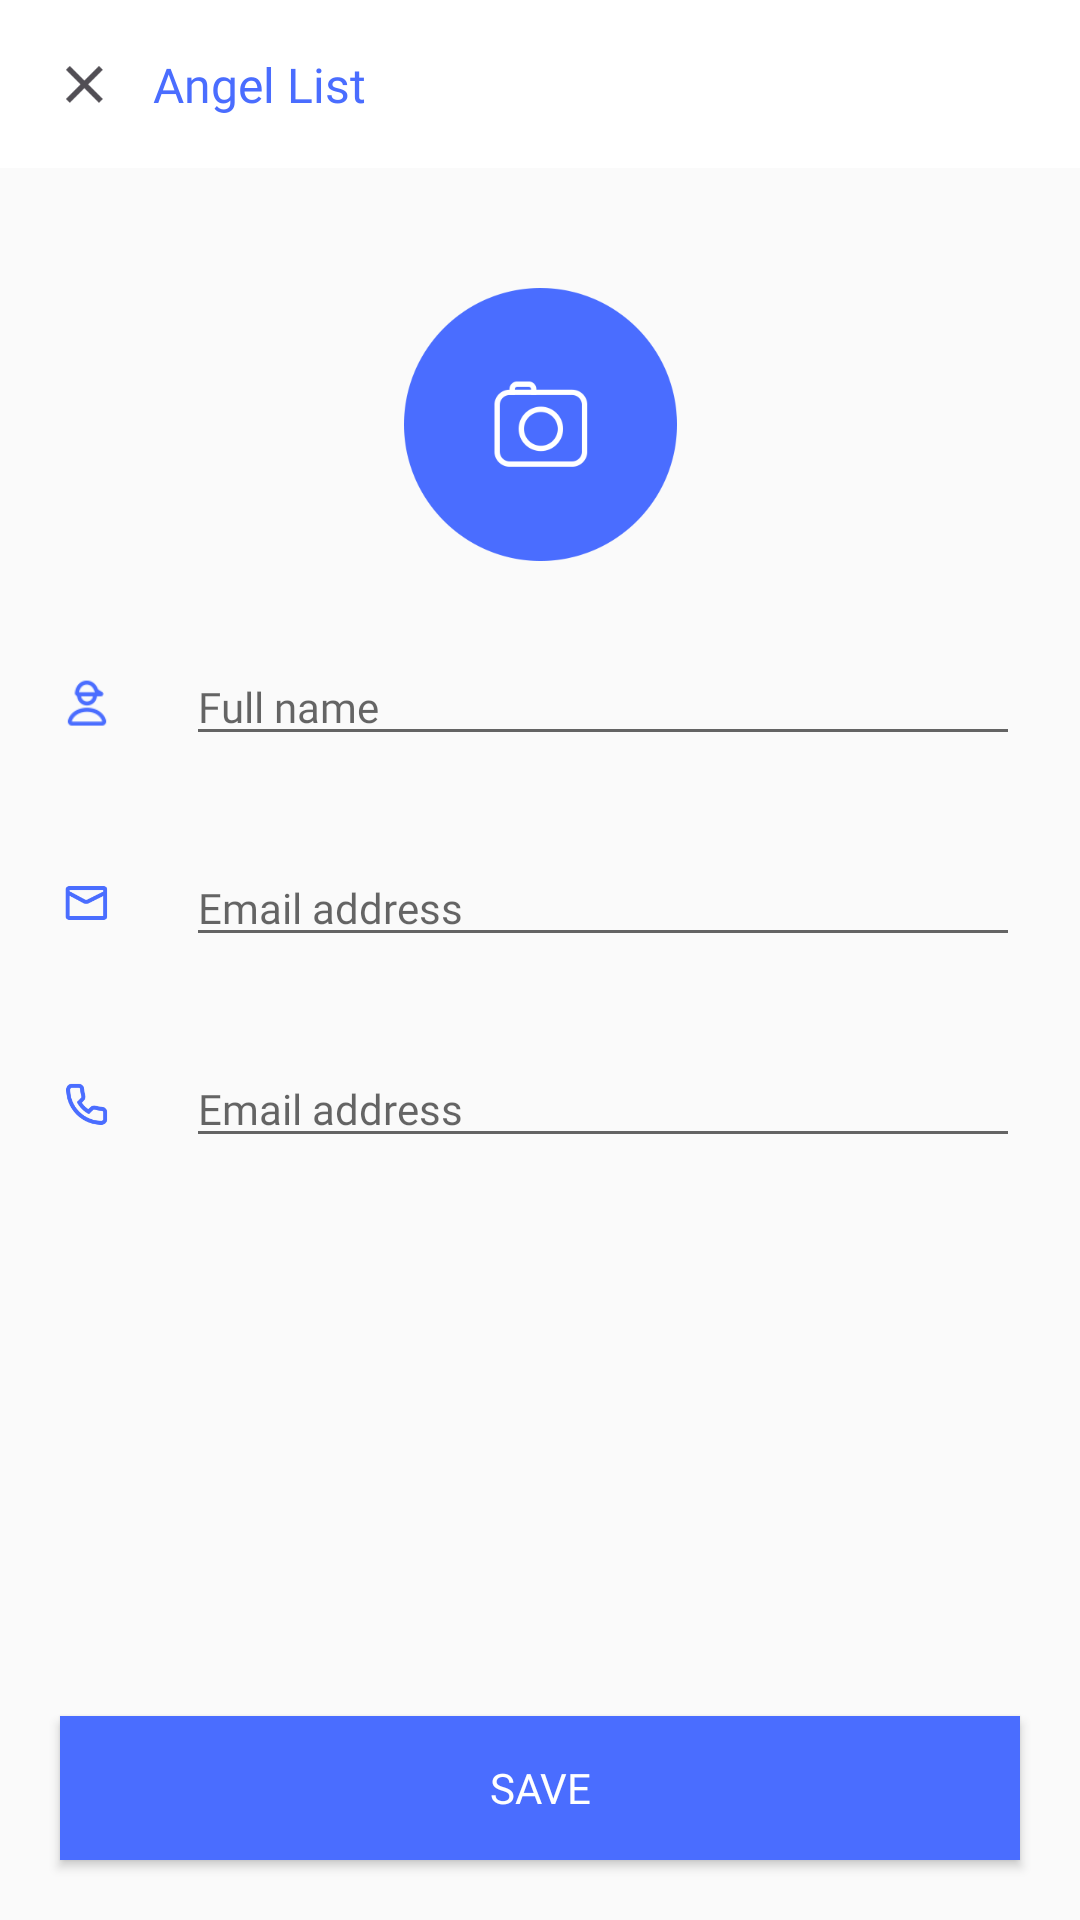

Icons on this 1080x1920 Android screen, each with its box as Rect(x1, y1, x2, y2):
add photo: Rect(404, 288, 677, 561)
cancel: Rect(66, 66, 103, 103)
contact: Rect(67, 680, 107, 726)
phone: Rect(66, 1084, 107, 1125)
